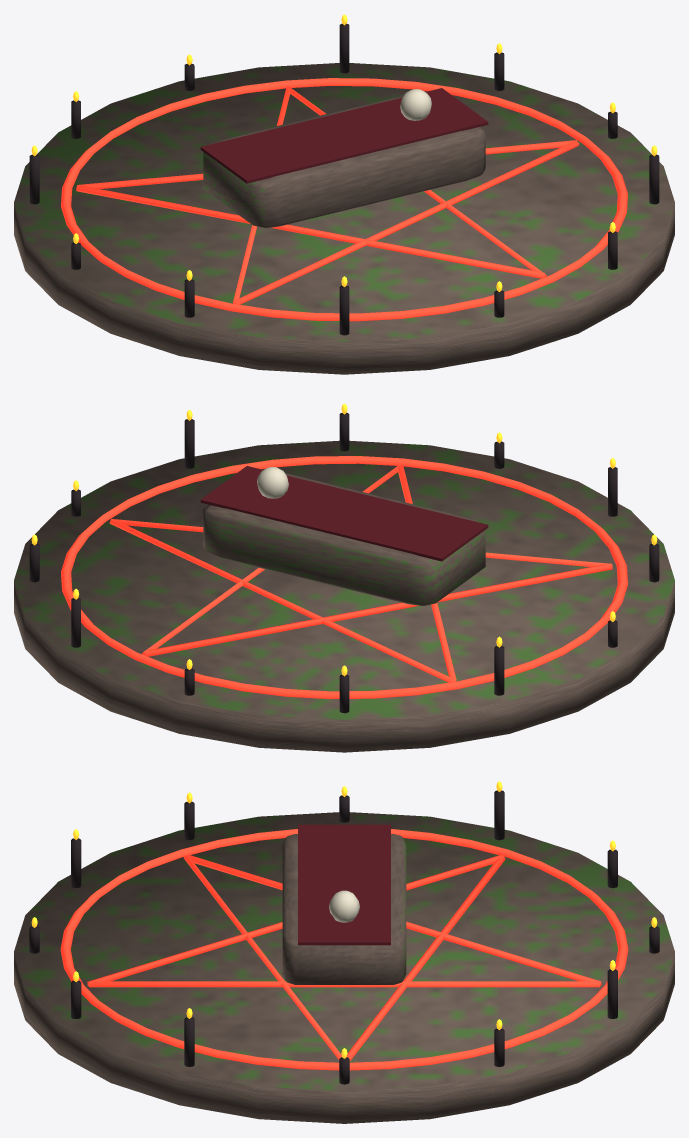
Rendered from prop_altar_ritual.glb.
3 views of the same model, one above another, from view 1: azimuth 30°, elevation 25°; view 2: azimuth 150°, elevation 25°; view 3: azimuth 270°, elevation 25° (orthographic).
Parts seen in each view (by area): view 1: altar_ritual; view 2: altar_ritual; view 3: altar_ritual.
Part boxes in pixels (x1,y1,x2,y2): altar_ritual: (14, 14, 674, 374); altar_ritual: (14, 403, 674, 752); altar_ritual: (14, 781, 674, 1123).
Size of the model in its own units: 6.4 by 1.36 by 6.4.
Materials: 6 (1 with a texture image).
